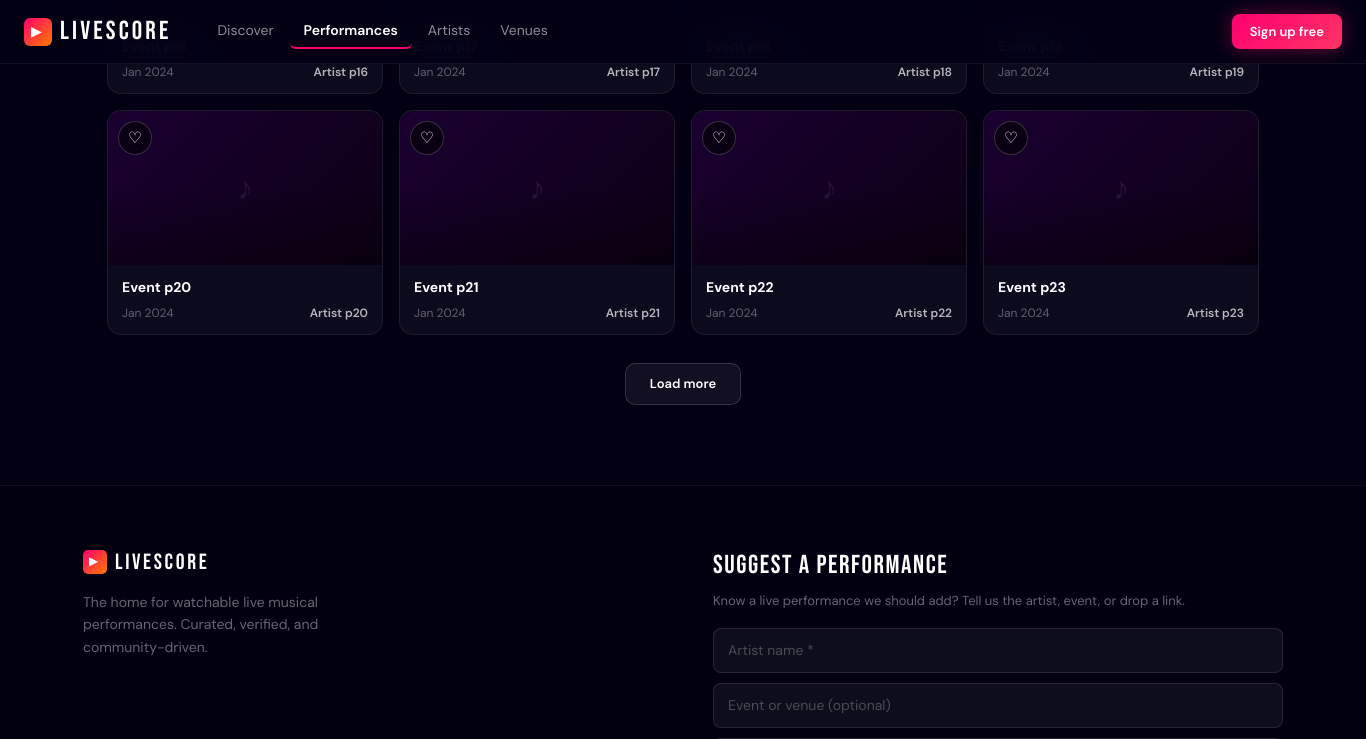
Test: SearchPage — pagination › shows a Load more button when a full page of results is returned, and appends the next page on click
(page scrolled)
Click the button "Load more".
click(683, 384)  # box [625, 363, 741, 405]
(page scrolled)
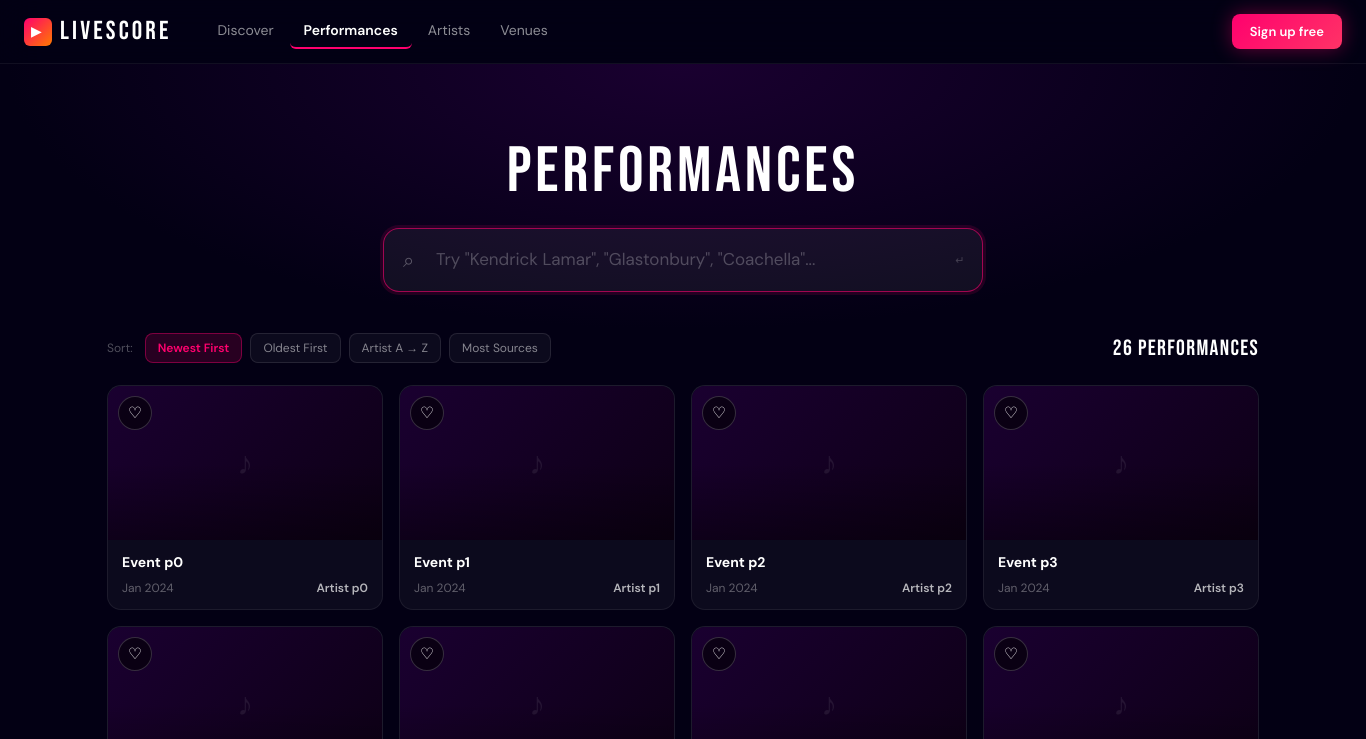
Result: the text "26 PERFORMANCES" is shown at [1113, 332, 1259, 364]
